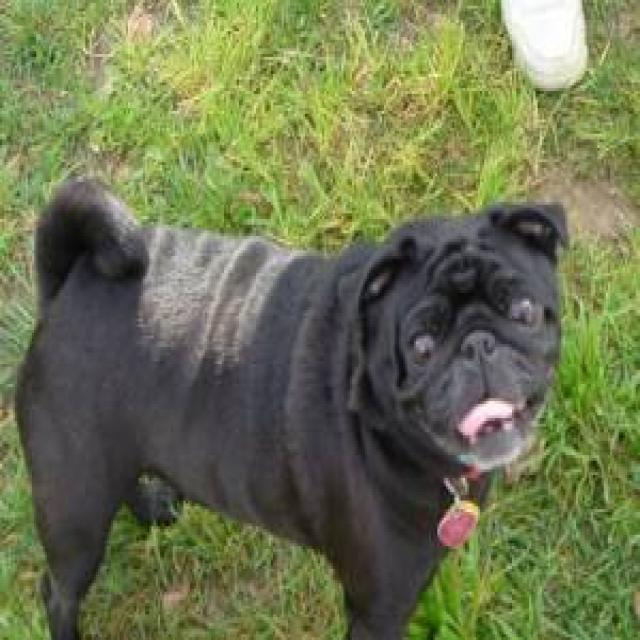dog-pug: (2, 168, 572, 634)
